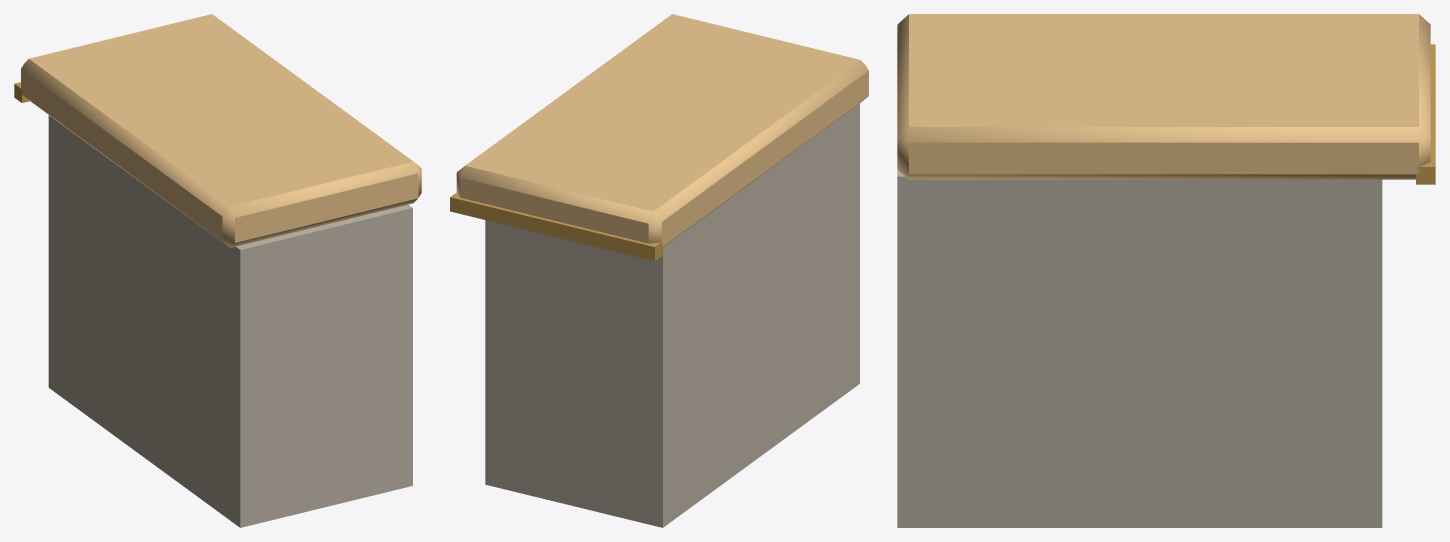
File: perch_seat.glb
3 renders of one model, left to right at view 1: azimuth 30°, elevation 25°; view 2: azimuth 150°, elevation 25°; view 3: azimuth 270°, elevation 25°, orthographic. The views are drawn at different scales.
Visible parts, largest first — view 1: body; view 2: body; view 3: body.
Boxes of the visible parts, x1,y1,x2,y2 form: body: (14,14,421,527); body: (450,14,868,527); body: (897,14,1435,527).
Bounding box in the file's own units: 0.3 × 0.46 × 0.555.
